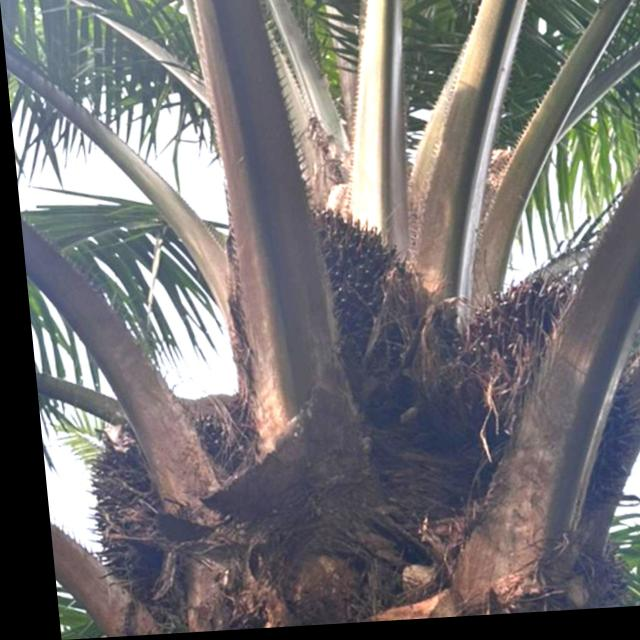unripe: (202, 197, 435, 443)
